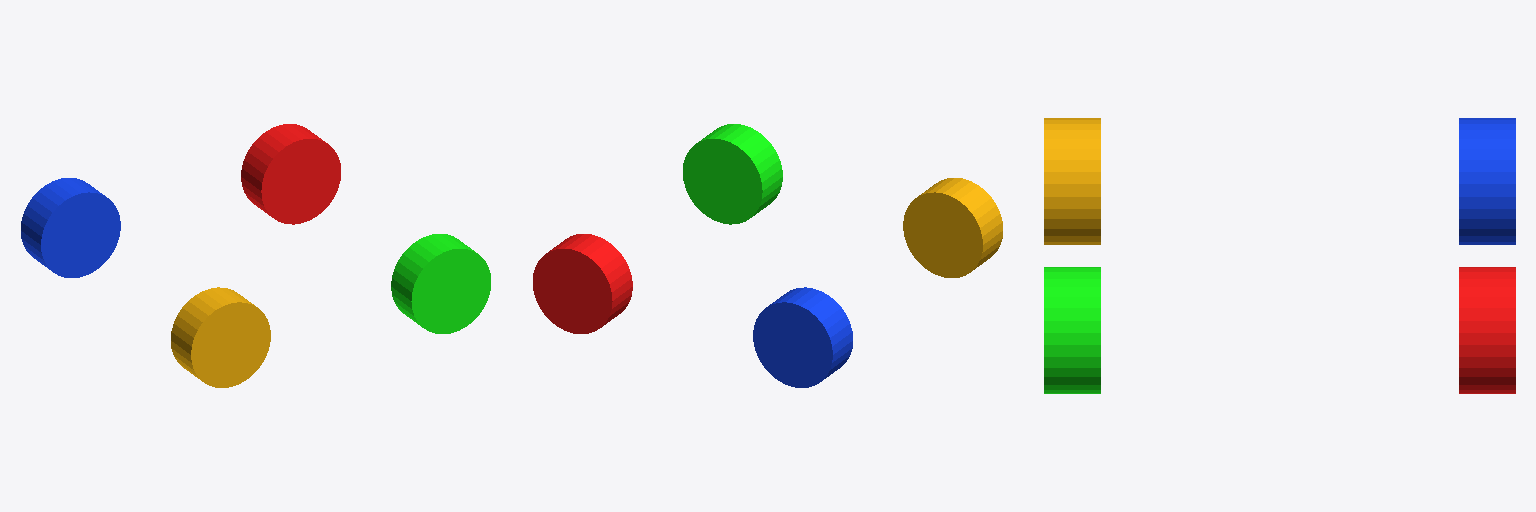
robot.urdf — robotcar_mecanum_debug:
<?xml version="1.0"?>
<robot name="robotcar_mecanum_debug">
  <material name="white"><color rgba="1 1 1 1"/></material>
  <material name="fl"><color rgba="1 0.15 0.15 0.60"/></material>
  <material name="fr"><color rgba="0.15 1 0.15 0.60"/></material>
  <material name="rl"><color rgba="0.15 0.35 1 0.60"/></material>
  <material name="rr"><color rgba="1 0.75 0.10 0.60"/></material>

  <link name="base_footprint"/>
  <link name="base_link">
    <visual>
      <origin xyz="0 0 -0.035791123" rpy="0 0 0"/>
      <geometry><mesh filename="../meshes/base_link.STL"/></geometry>
      <material name="white"/>
    </visual>
  </link>
  <joint name="base_footprint_joint" type="fixed">
    <parent link="base_footprint"/><child link="base_link"/>
    <origin xyz="0 0 0.035791123" rpy="0 0 0"/>
  </joint>

  <!-- Debug cylinders are intentionally a little larger than the CAD wheel
       so their link positions remain visible over the full-robot STL. -->
  <link name="front_left_wheel_link"><visual><origin rpy="1.570796327 0 0"/><geometry><cylinder radius="0.0385" length="0.034"/></geometry><material name="fl"/></visual></link>
  <joint name="front_left_wheel_joint" type="continuous"><parent link="base_link"/><child link="front_left_wheel_link"/><origin xyz="0.106000002 0.125 0"/><axis xyz="0 1 0"/></joint>

  <link name="front_right_wheel_link"><visual><origin rpy="1.570796327 0 0"/><geometry><cylinder radius="0.0385" length="0.034"/></geometry><material name="fr"/></visual></link>
  <joint name="front_right_wheel_joint" type="continuous"><parent link="base_link"/><child link="front_right_wheel_link"/><origin xyz="0.106000002 -0.125 0"/><axis xyz="0 1 0"/></joint>

  <link name="rear_left_wheel_link"><visual><origin rpy="1.570796327 0 0"/><geometry><cylinder radius="0.0385" length="0.034"/></geometry><material name="rl"/></visual></link>
  <joint name="rear_left_wheel_joint" type="continuous"><parent link="base_link"/><child link="rear_left_wheel_link"/><origin xyz="-0.106000002 0.125 0"/><axis xyz="0 1 0"/></joint>

  <link name="rear_right_wheel_link"><visual><origin rpy="1.570796327 0 0"/><geometry><cylinder radius="0.0385" length="0.034"/></geometry><material name="rr"/></visual></link>
  <joint name="rear_right_wheel_joint" type="continuous"><parent link="base_link"/><child link="rear_right_wheel_link"/><origin xyz="-0.106000002 -0.125 0"/><axis xyz="0 1 0"/></joint>
</robot>

--- Render facts (derived) ---
Views: 3 orthographic renders of the robot side by side, from view 1: azimuth 30°, elevation 25°; view 2: azimuth 150°, elevation 25°; view 3: azimuth 270°, elevation 25°.
Model robotcar_mecanum_debug with 6 links and 5 joints (4 continuous, 1 fixed), rooted at base_footprint, posed every joint at zero.
Links seen in each view (by area): view 1: front_left_wheel_link, rear_right_wheel_link, front_right_wheel_link, rear_left_wheel_link; view 2: front_right_wheel_link, rear_left_wheel_link, front_left_wheel_link, rear_right_wheel_link; view 3: front_left_wheel_link, front_right_wheel_link, rear_left_wheel_link, rear_right_wheel_link.
Boxes of the visible links, x1,y1,x2,y2 form: front_left_wheel_link: (241,124,340,224); rear_right_wheel_link: (171,287,270,387); front_right_wheel_link: (391,234,490,333); rear_left_wheel_link: (21,178,120,277); front_right_wheel_link: (683,124,782,224); rear_left_wheel_link: (753,287,852,387); front_left_wheel_link: (533,234,632,333); rear_right_wheel_link: (903,178,1002,277); front_left_wheel_link: (1459,267,1515,393); front_right_wheel_link: (1044,267,1100,393); rear_left_wheel_link: (1459,118,1515,244); rear_right_wheel_link: (1044,118,1100,244).
Size in the robot's own frame: 0.289 by 0.284 by 0.077 metres.
0 mesh visuals loaded from 1 distinct referenced files (none loaded); not drawn: 1 (reference not matched to a file when rendering).
